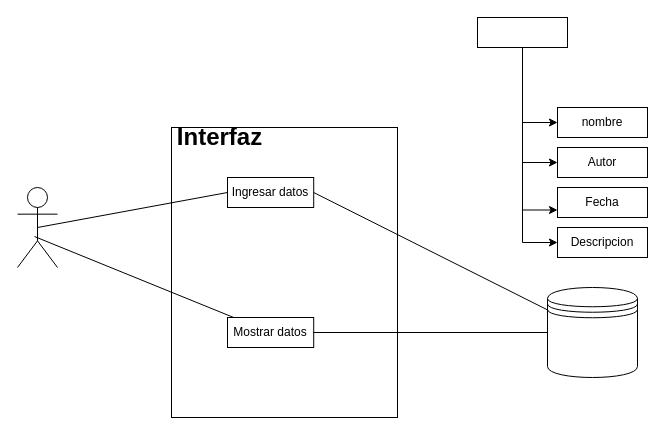
Image size: 665x435. Some labels were removed from this diagram. The shapes that lost their labels are listed below. From the top down, each one's centre as x and y in pixels, then its label:
At point (522, 32): "Guardar".
At point (37, 227): "Usuario".
At point (592, 332): "Bookstore".
